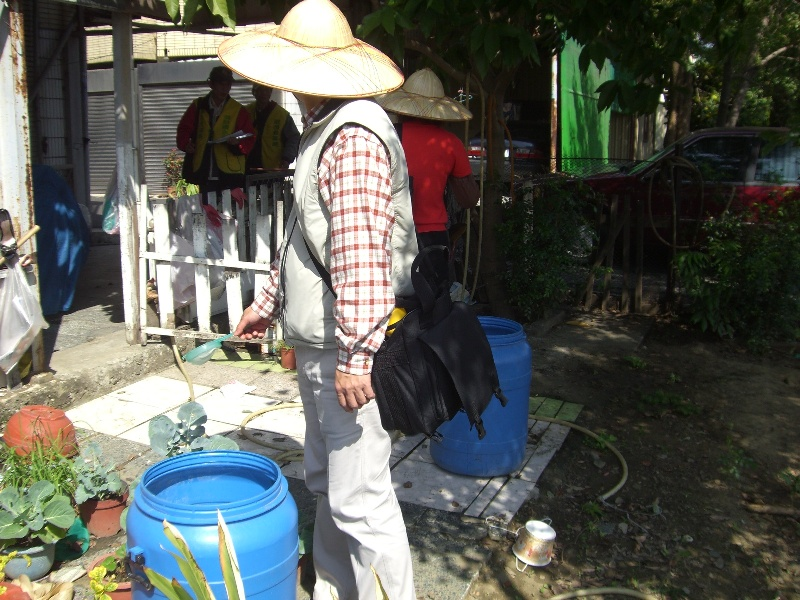bowl: (1, 403, 80, 464), (512, 519, 558, 567)
bucket: (124, 448, 300, 600), (429, 314, 535, 480)
